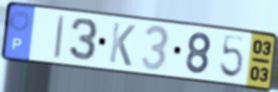3: (68, 17, 101, 64), (140, 24, 172, 72)
5: (217, 33, 247, 80)
8: (185, 31, 212, 76)
I: (52, 13, 67, 62)
K: (107, 21, 137, 69)
